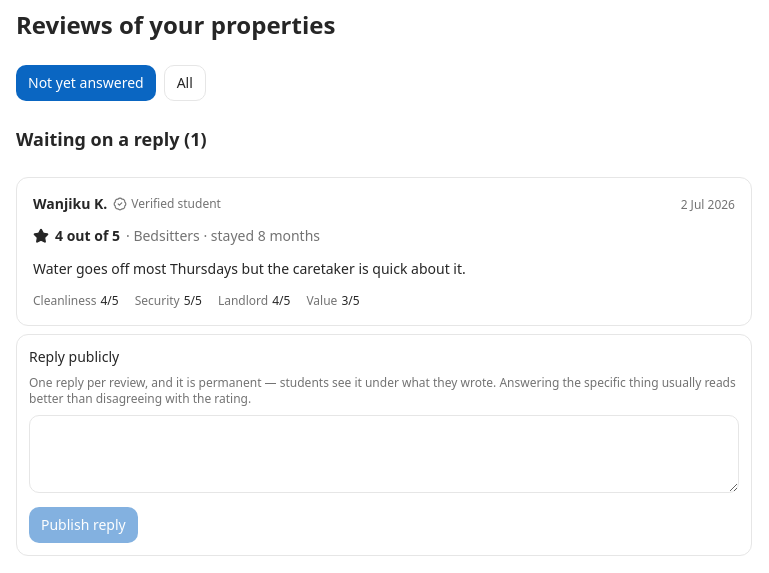
Test: replying › posts it and says it is published
Step 1. Type "The tank was replaced." into the text box labelled "Reply publicly" → x=384, y=454, box [29,415,739,493]
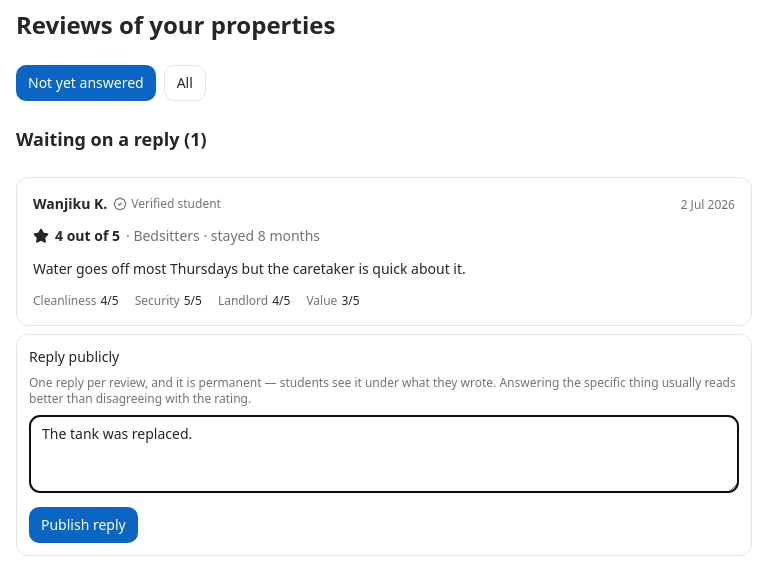
Step 2. Click the button "Publish reply" → x=83, y=525, box [29,507,138,543]
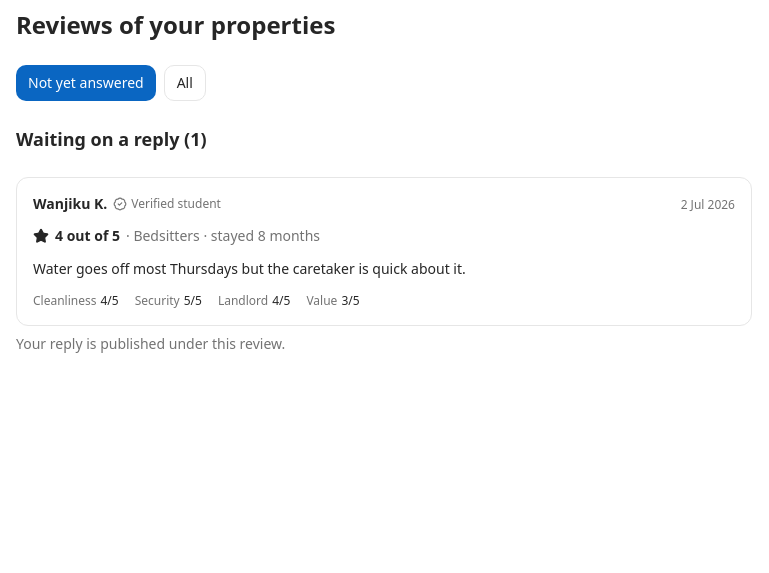
expect the text "Your reply is published under this review." is shown: met, box [16,334,285,353]
